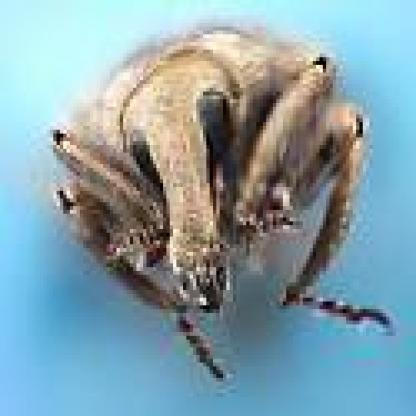rice-bug: (48, 25, 372, 336)
